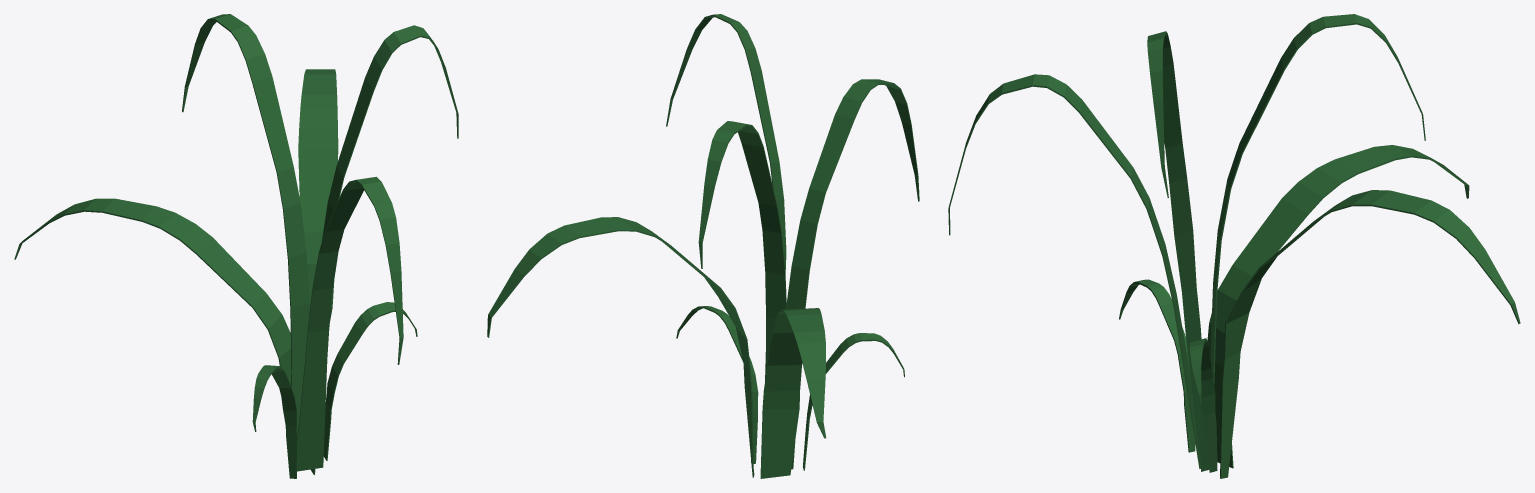
File: plantetombante.fbx
3 renders of one model, left to right at view 1: azimuth 30°, elevation 25°; view 2: azimuth 150°, elevation 25°; view 3: azimuth 270°, elevation 25°, orthographic. The views are drawn at different scales.
Parts seen in each view (by area): view 1: plantetombante; view 2: plantetombante; view 3: plantetombante.
Boxes of the visible parts, x1,y1,x2,y2 form: plantetombante: [14, 14, 458, 478]; plantetombante: [487, 14, 919, 478]; plantetombante: [948, 14, 1520, 478].
Bounding box in the file's own units: 31.36 × 43.5 × 40.
